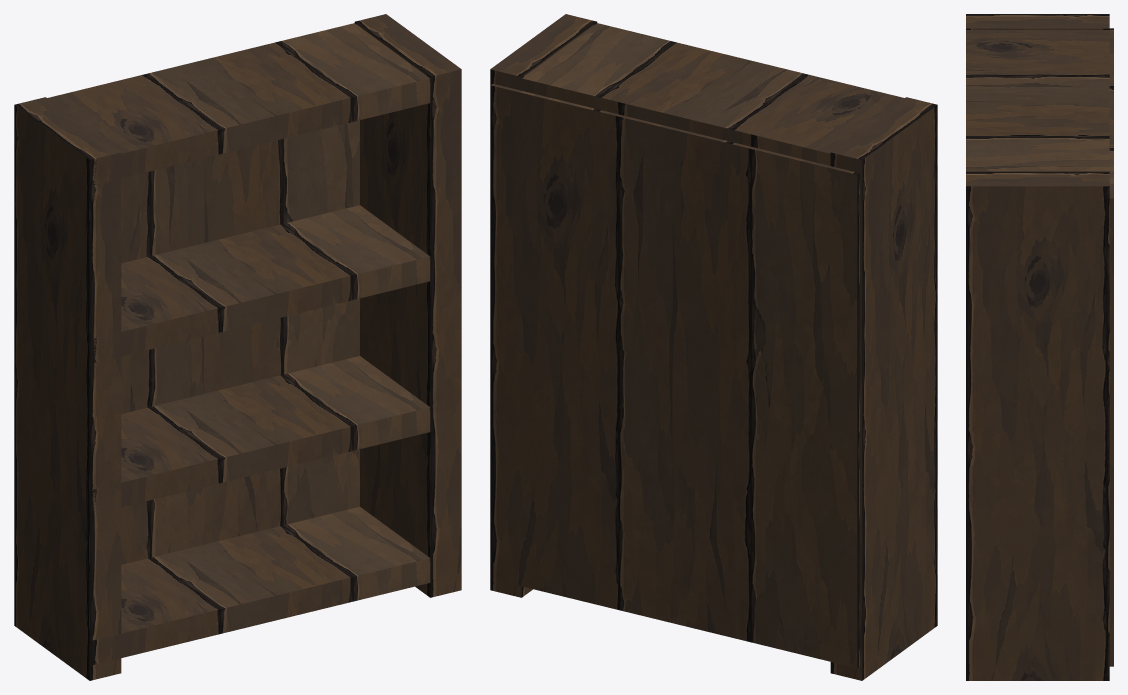
Rendered from shelf_dark.glb.
3 renders of one model, left to right at view 1: azimuth 30°, elevation 25°; view 2: azimuth 150°, elevation 25°; view 3: azimuth 270°, elevation 25°, orthographic. The views are drawn at different scales.
Parts seen in each view (by area): view 1: shelf_dark; view 2: shelf_dark; view 3: shelf_dark.
Boxes of the visible parts, left/top/right/bottom form: shelf_dark: left=14, top=14, right=461, bottom=680; shelf_dark: left=490, top=14, right=937, bottom=680; shelf_dark: left=966, top=14, right=1113, bottom=680.
Bounding box in the file's own units: 1.42 × 1.9 × 0.515.
1 material, 1 textured.
